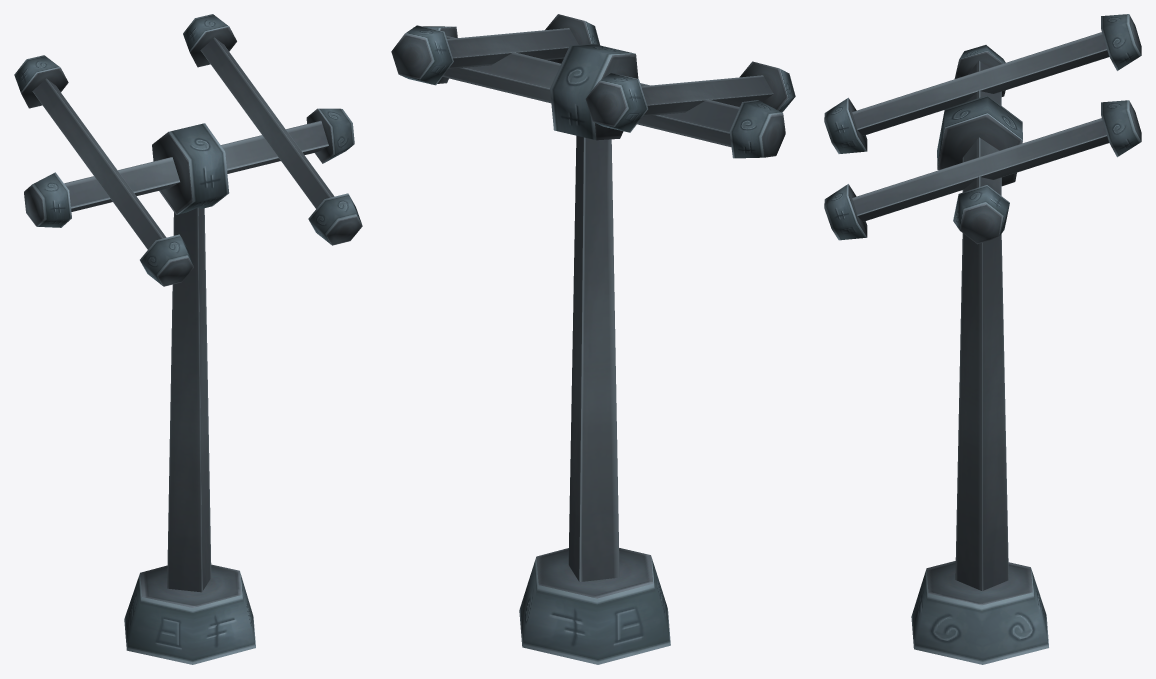
Rendered from book_stand.fbx.
The picture shows the model from 3 angles, left to right: view 1: azimuth 30°, elevation 25°; view 2: azimuth 150°, elevation 25°; view 3: azimuth 270°, elevation 25°; orthographic projection. The views are drawn at different scales.
Visible parts, largest first — view 1: book_standMesh; view 2: book_standMesh; view 3: book_standMesh.
Boxes of the visible parts, x1,y1,x2,y2 form: book_standMesh: [14, 14, 362, 664]; book_standMesh: [391, 14, 795, 664]; book_standMesh: [824, 14, 1141, 664].
Size of the model in its own units: 1.18 by 1.99 by 0.9991.
Materials: 1 (1 with a texture image).
